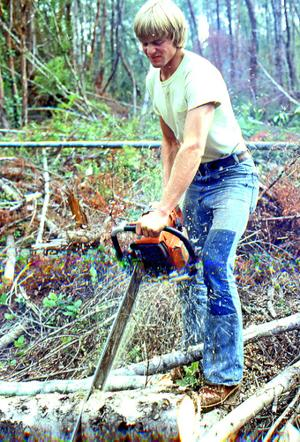person: (132, 1, 259, 413)
